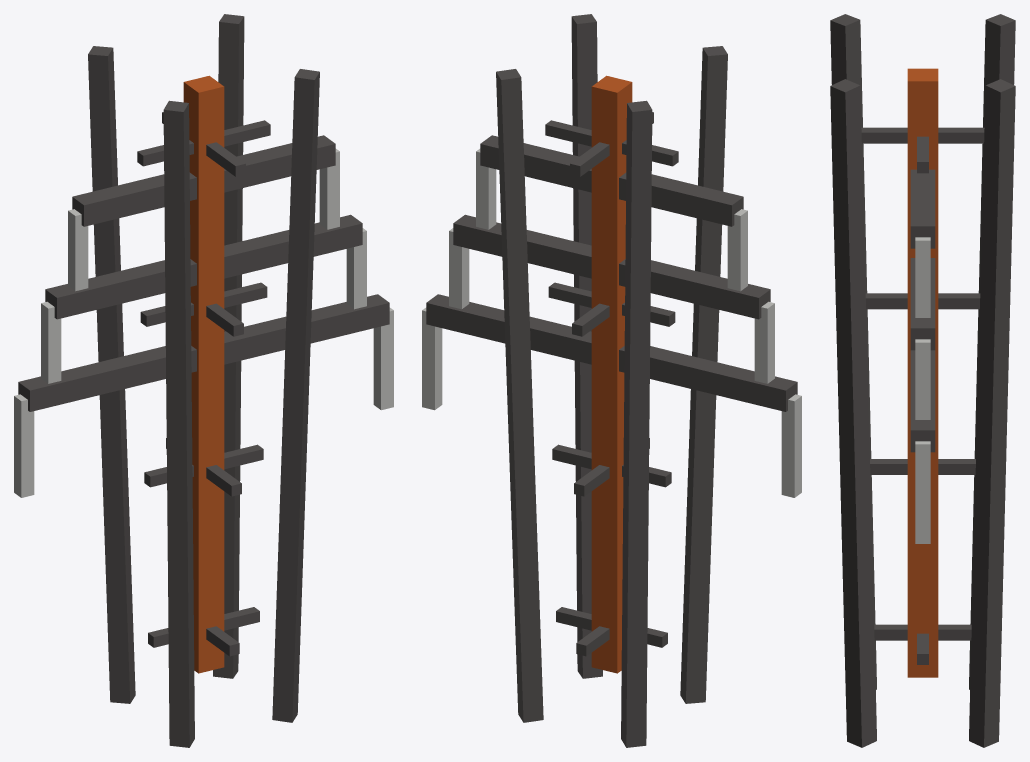
The model's file is pylon_2_kiln.glb.
3 renders of one model, left to right at view 1: azimuth 30°, elevation 25°; view 2: azimuth 150°, elevation 25°; view 3: azimuth 270°, elevation 25°, orthographic. The views are drawn at different scales.
Visible parts, largest first — view 1: Cube.021, Cube, Cube.002, Cube.001, Cube.004, Cube.003, Cube.007, Cube.010, Cube.005, Cube.006, Cube.011, Cube.008 (+10 smaller); view 2: Cube.021, Cube.001, Cube.003, Cube, Cube.004, Cube.002, Cube.007, Cube.010, Cube.005, Cube.006, Cube.011, Cube.008 (+10 smaller); view 3: Cube.002, Cube.003, Cube.021, Cube, Cube.001, Cube.010, Cube.006, Cube.020, Cube.004, Cube.018, Cube.007, Cube.009 (+5 smaller).
Boxes of the visible parts, box(x1,y1,x2,y2) form: Cube.021: box(183, 75, 224, 673); Cube: box(163, 100, 194, 747); Cube.002: box(272, 69, 319, 722); Cube.001: box(88, 46, 135, 703); Cube.004: box(18, 294, 389, 411); Cube.003: box(213, 14, 244, 678); Cube.007: box(45, 214, 362, 319); Cube.010: box(72, 135, 335, 226); Cube.005: box(14, 394, 34, 497); Cube.006: box(373, 307, 393, 410); Cube.011: box(68, 209, 88, 291); Cube.008: box(41, 301, 61, 383); Cube.021: box(591, 75, 632, 673); Cube.001: box(621, 100, 652, 747); Cube.003: box(496, 69, 543, 722); Cube: box(680, 46, 727, 703); Cube.004: box(426, 294, 797, 411); Cube.002: box(571, 14, 602, 678); Cube.007: box(453, 214, 770, 319); Cube.010: box(480, 135, 743, 226); Cube.005: box(781, 394, 801, 497); Cube.006: box(422, 307, 442, 410); Cube.011: box(727, 209, 747, 291); Cube.008: box(754, 301, 774, 383); Cube.002: box(830, 79, 876, 747); Cube.003: box(969, 79, 1015, 747); Cube.021: box(907, 68, 938, 677); Cube: box(830, 14, 876, 689); Cube.001: box(969, 14, 1015, 689); Cube.010: box(910, 169, 935, 248); Cube.006: box(915, 441, 930, 543); Cube.020: box(861, 127, 984, 143); Cube.004: box(910, 350, 935, 452); Cube.018: box(865, 293, 980, 309); Cube.007: box(910, 258, 935, 350); Cube.009: box(915, 339, 930, 419).
Bounding box in the file's own units: 7.25 × 12.01 × 3.04.
